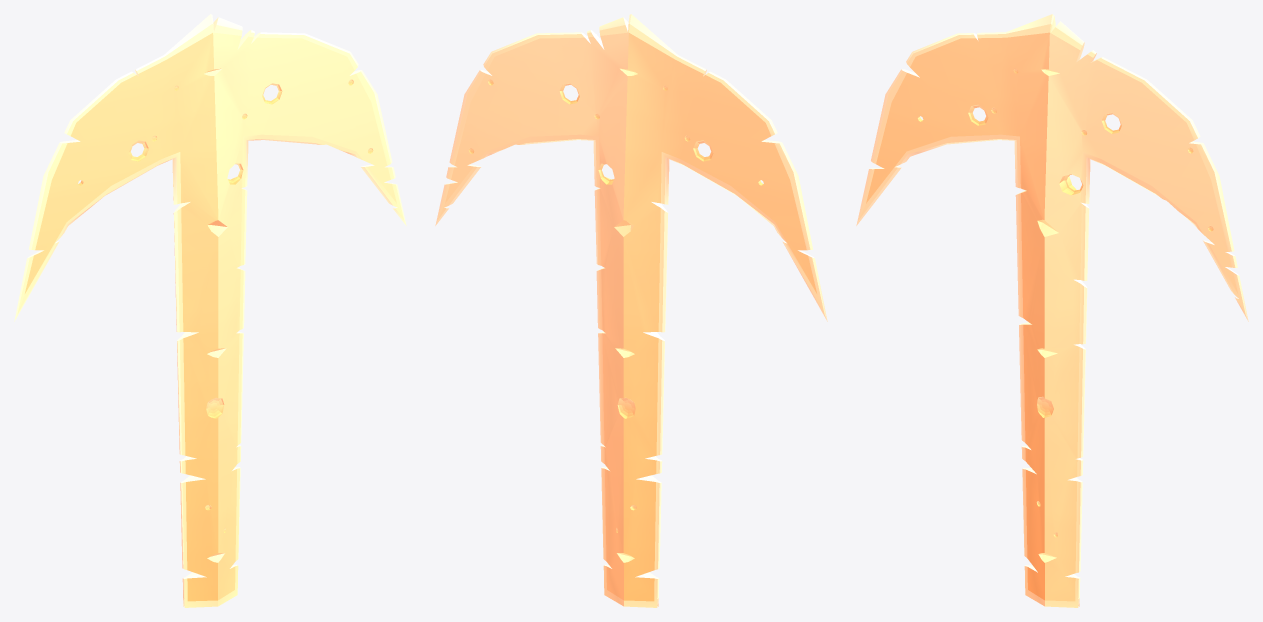
File: wood_blade_bubbles_070.glb
3 renders of one model, left to right at view 1: azimuth 30°, elevation 25°; view 2: azimuth 150°, elevation 25°; view 3: azimuth 330°, elevation 25°, orthographic.
Parts seen in each view (by area): view 1: wood_blade_bubbles.070; view 2: wood_blade_bubbles.070; view 3: wood_blade_bubbles.070.
Boxes of the visible parts, x1,y1,x2,y2 form: wood_blade_bubbles.070: (14,14,406,607); wood_blade_bubbles.070: (435,14,827,607); wood_blade_bubbles.070: (856,14,1248,607).
Size of the model in its own units: 8.24 by 11.78 by 0.5822.
Materials: 1 (1 with a texture image).
